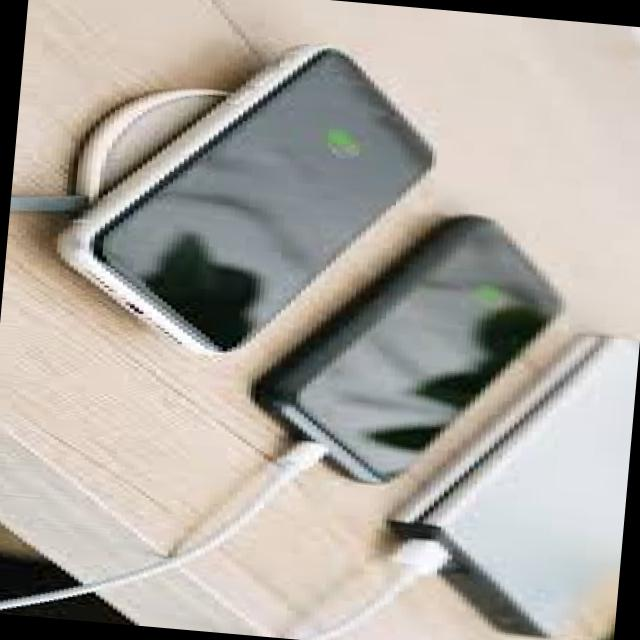power_bank: (339, 306, 640, 640)
